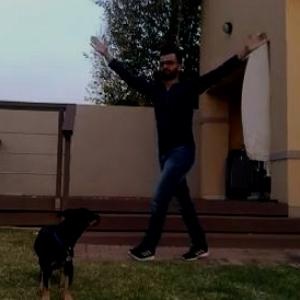takeoff: (77, 28, 262, 264)
